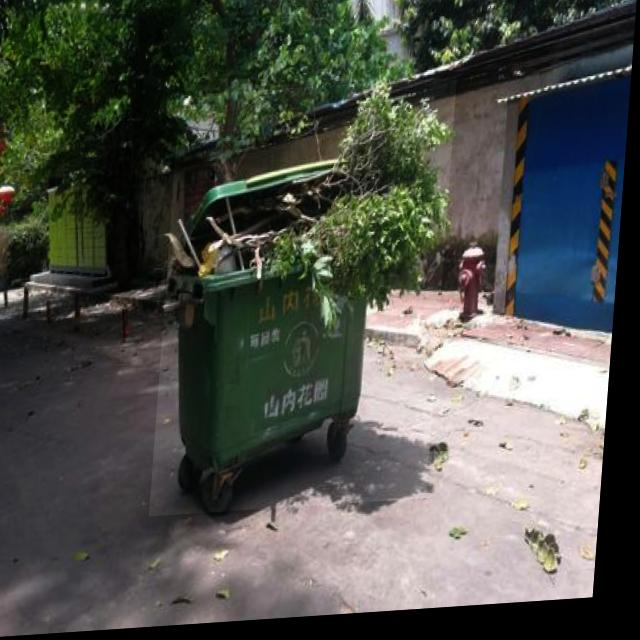overflow: (157, 84, 459, 519)
